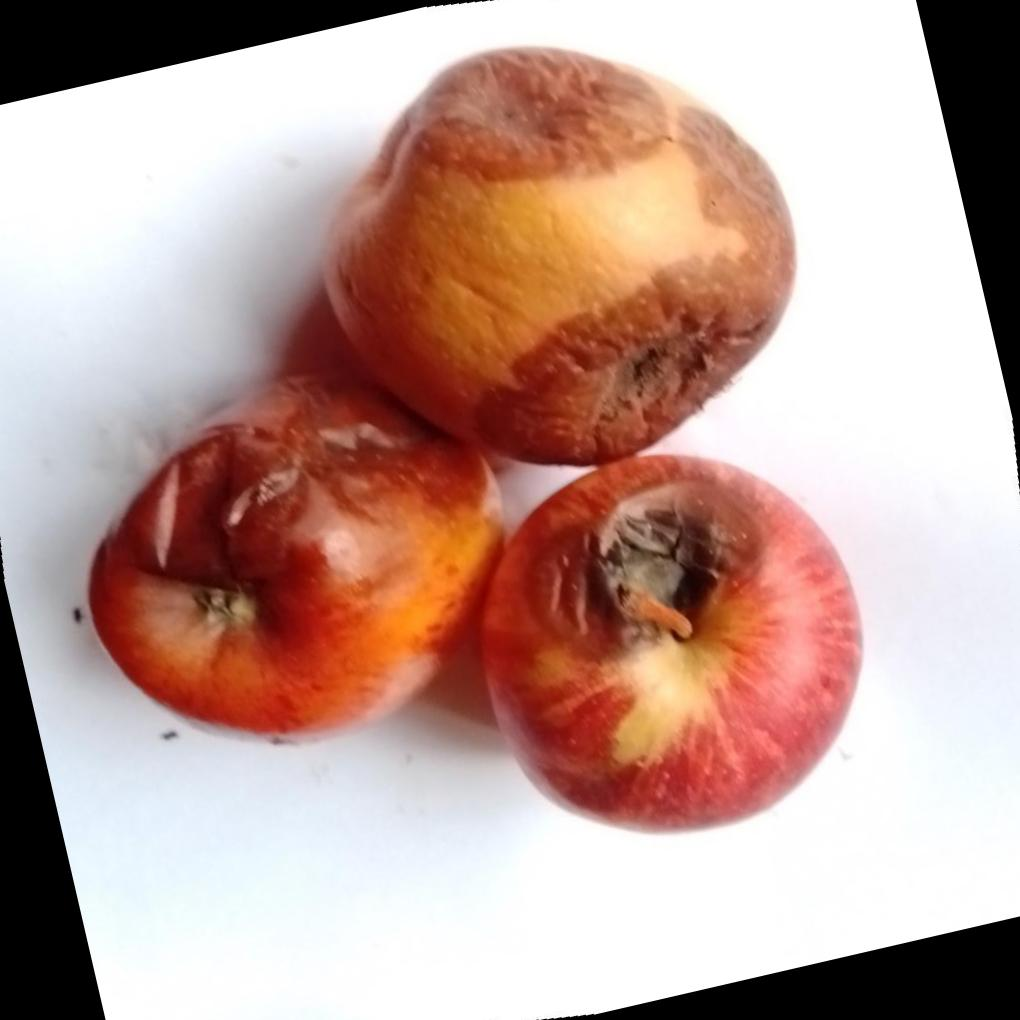FreshOrange: (83, 44, 861, 839)
